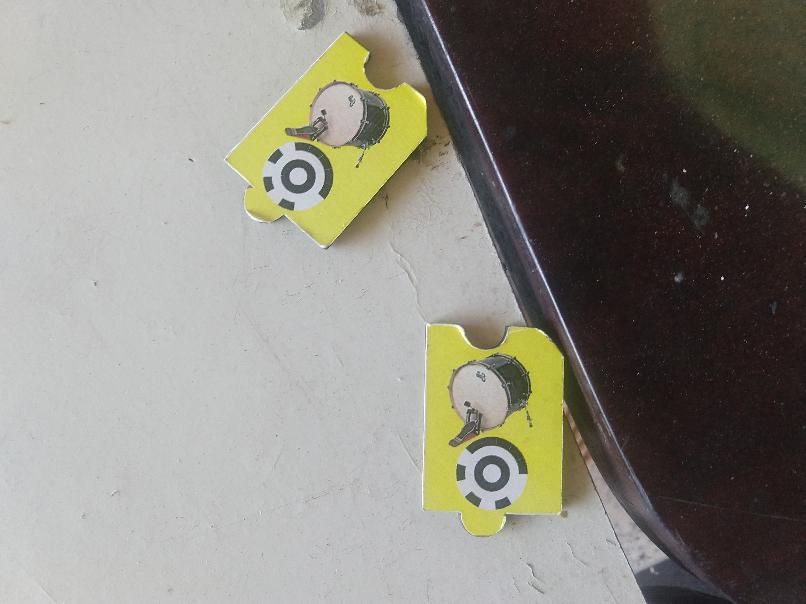bumbo: (218, 23, 428, 259), (420, 319, 565, 544)
